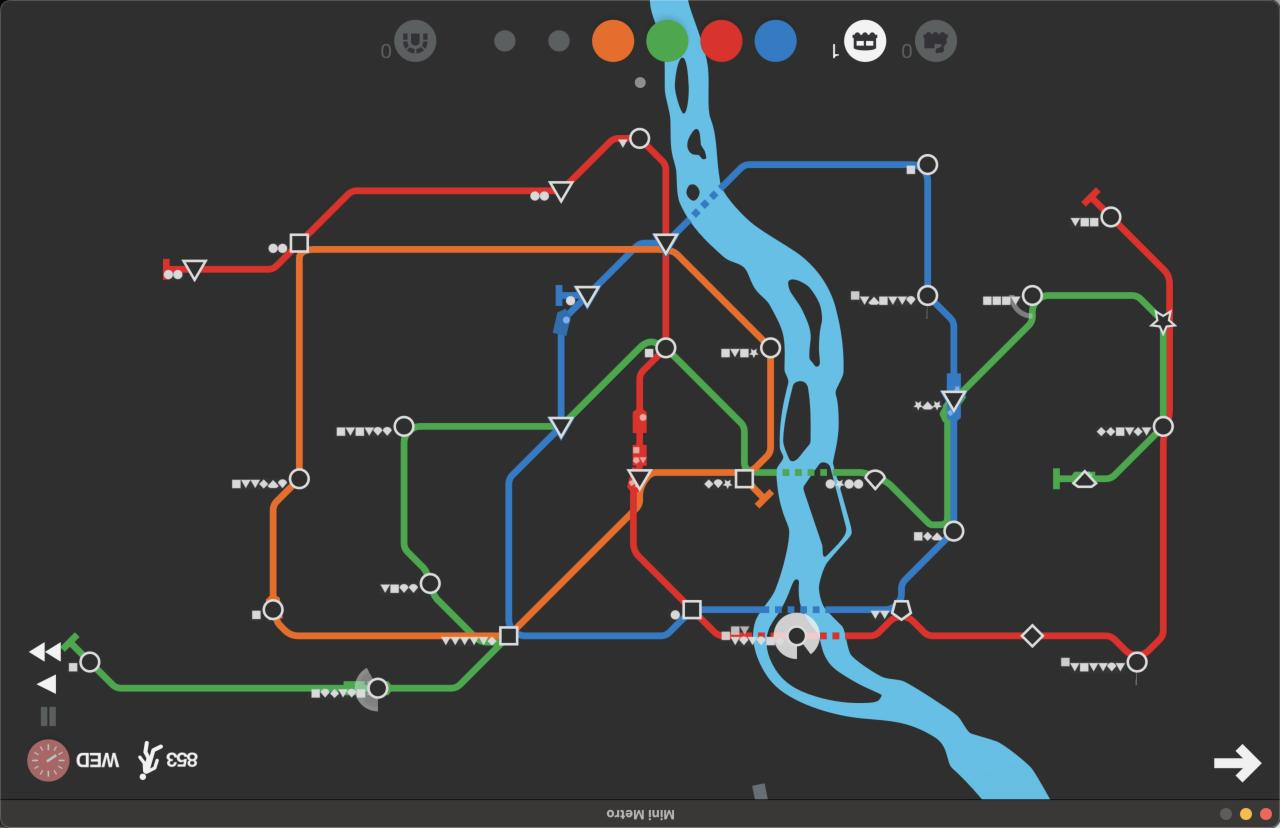BLUE LINE: (673, 160, 914, 233), (504, 431, 558, 624), (518, 615, 684, 639), (554, 295, 581, 417), (896, 537, 948, 600), (932, 301, 959, 389), (703, 604, 888, 613), (949, 407, 962, 520), (593, 254, 633, 286), (921, 175, 931, 285), (555, 284, 576, 304), (631, 239, 660, 246)
DARK GREEN LINE: (669, 353, 748, 469), (882, 404, 951, 529), (566, 337, 656, 417), (94, 669, 367, 694), (961, 305, 1036, 392), (391, 644, 502, 693), (400, 437, 429, 573), (1089, 432, 1157, 482), (1042, 292, 1156, 318), (428, 594, 472, 633), (413, 423, 554, 431), (752, 468, 867, 477), (1158, 331, 1167, 418), (1052, 466, 1076, 490), (60, 633, 84, 656)
ORANGE LINE: (518, 509, 629, 627), (668, 248, 765, 341), (272, 619, 498, 640), (636, 469, 734, 510), (309, 246, 662, 254), (269, 487, 294, 594), (752, 357, 774, 469), (295, 254, 303, 467), (750, 485, 775, 507)
RED LINE: (306, 186, 553, 234), (1116, 223, 1174, 419), (628, 487, 686, 604), (1144, 436, 1167, 654), (635, 352, 658, 467), (567, 136, 626, 180), (909, 616, 1021, 639), (642, 142, 669, 233), (821, 614, 899, 639), (201, 252, 293, 272), (1043, 633, 1130, 654), (699, 615, 772, 639), (662, 256, 669, 339), (163, 257, 184, 280), (1083, 188, 1105, 209)
